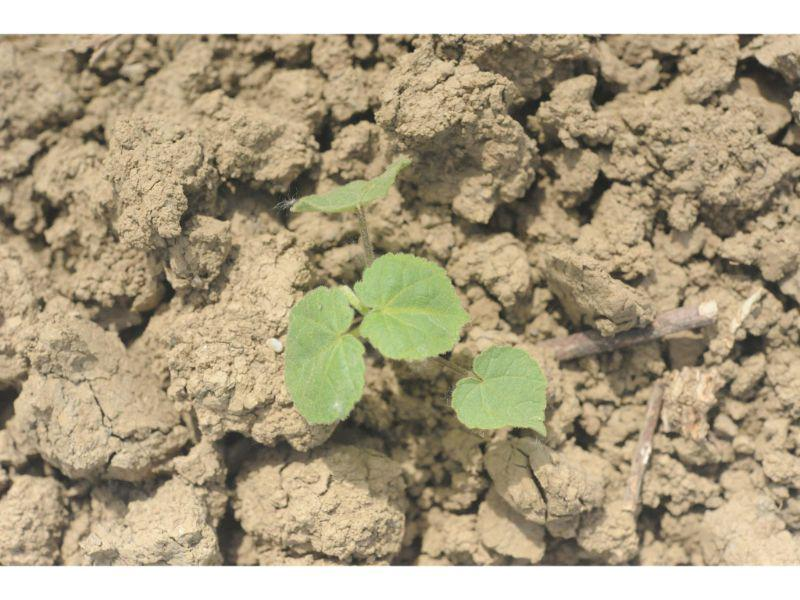velvet: (282, 158, 548, 442)
